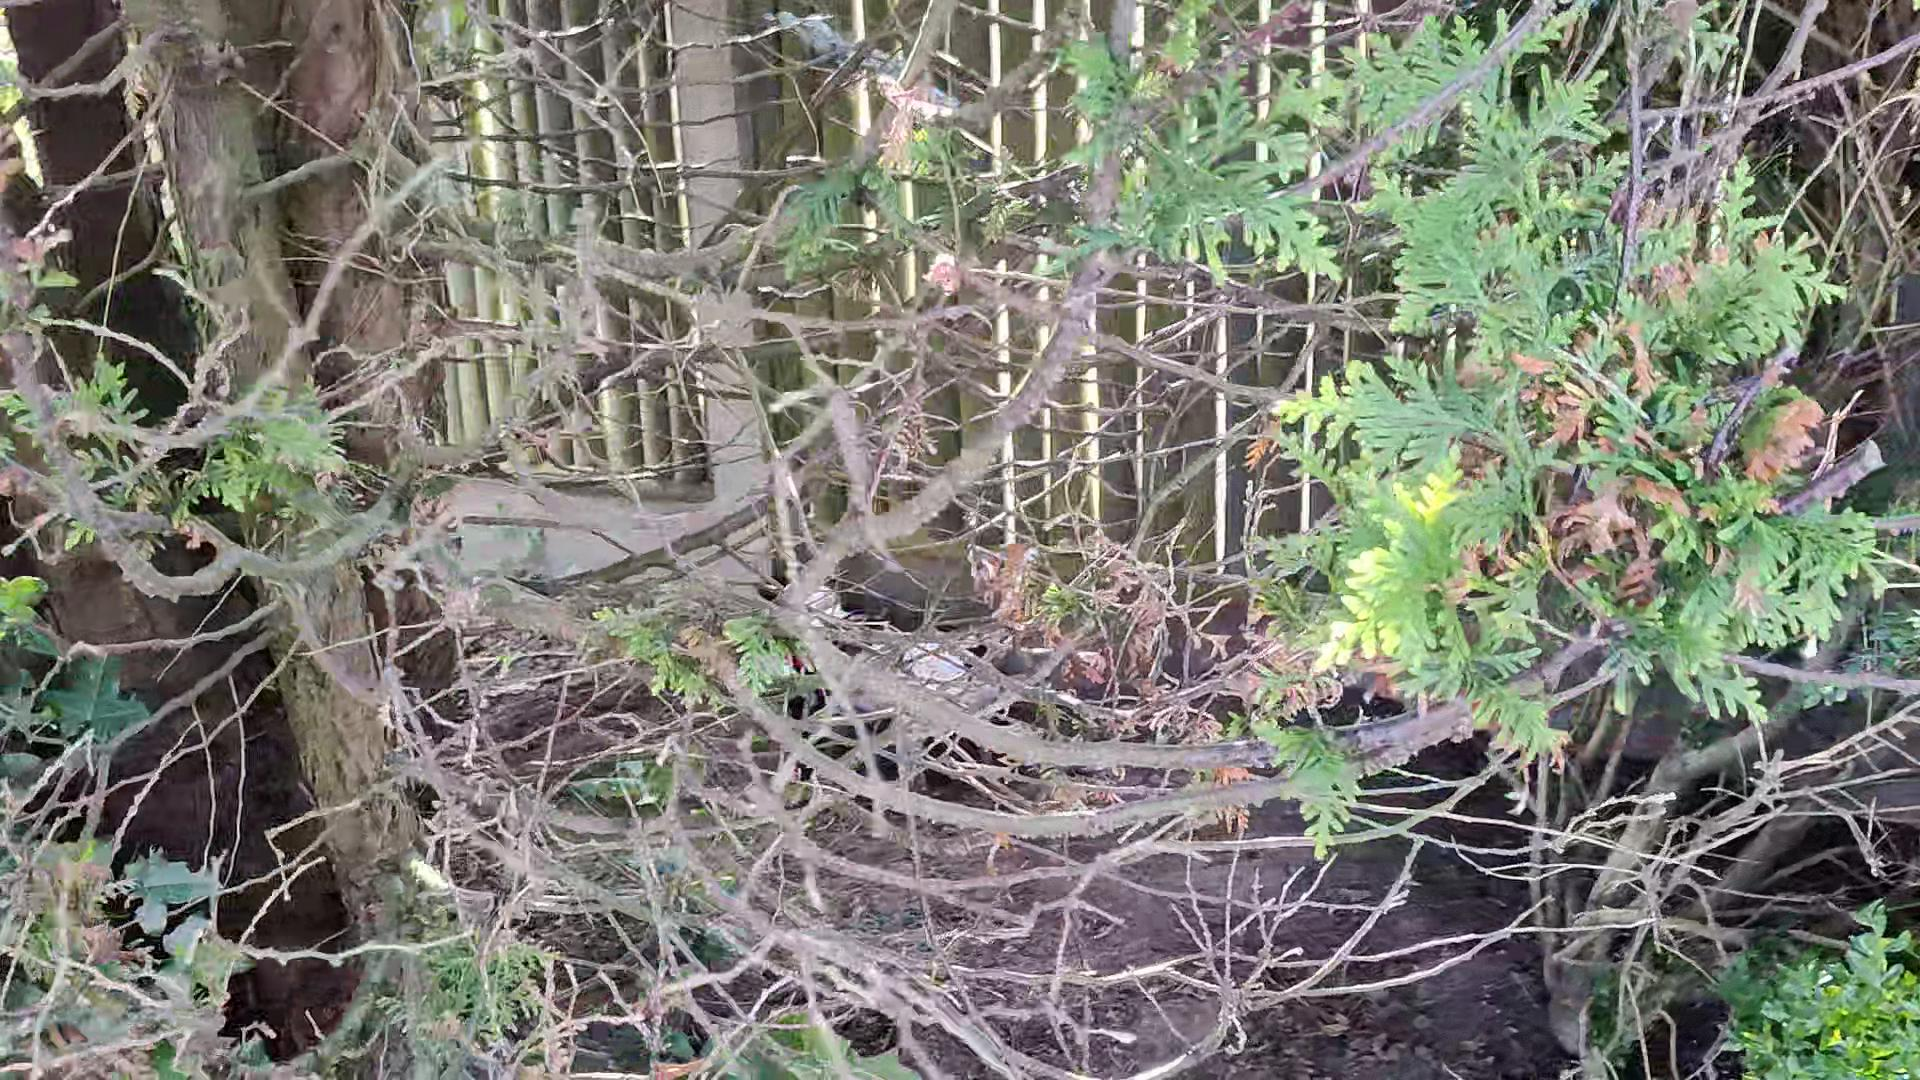Dog: (760, 535, 1033, 777)
